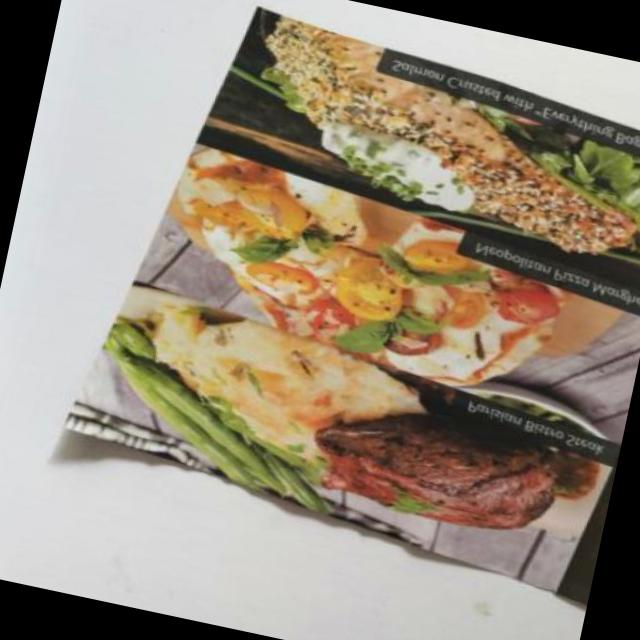cardboard paper: (65, 6, 640, 605)
